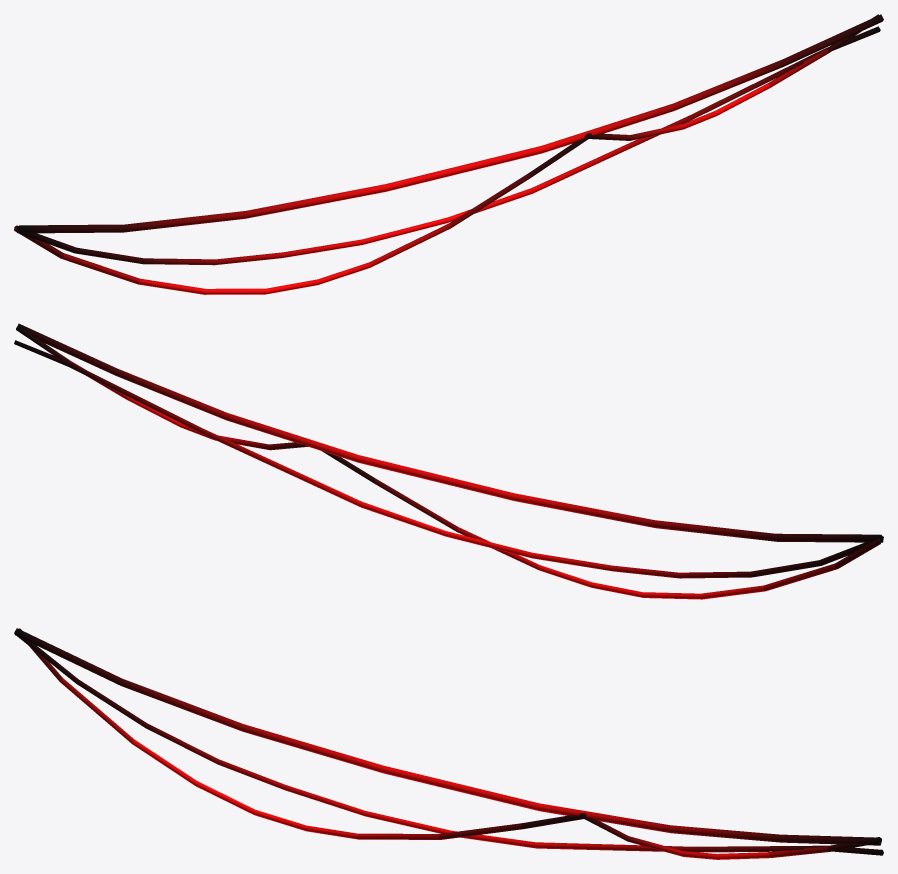
File: Cable_02.FBX
3 renders of one model, top to bottom at view 1: azimuth 30°, elevation 25°; view 2: azimuth 150°, elevation 25°; view 3: azimuth 330°, elevation 25°, orthographic.
Parts seen in each view (by area): view 1: Cable_02_COL; view 2: Cable_02_COL; view 3: Cable_02_COL.
Part boxes in pixels (left/top/right/bottom): Cable_02_COL: left=14, top=14, right=883, bottom=294; Cable_02_COL: left=14, top=323, right=883, bottom=599; Cable_02_COL: left=14, top=628, right=883, bottom=859.
Size of the model in its own units: 1772 by 252 by 37.65.
